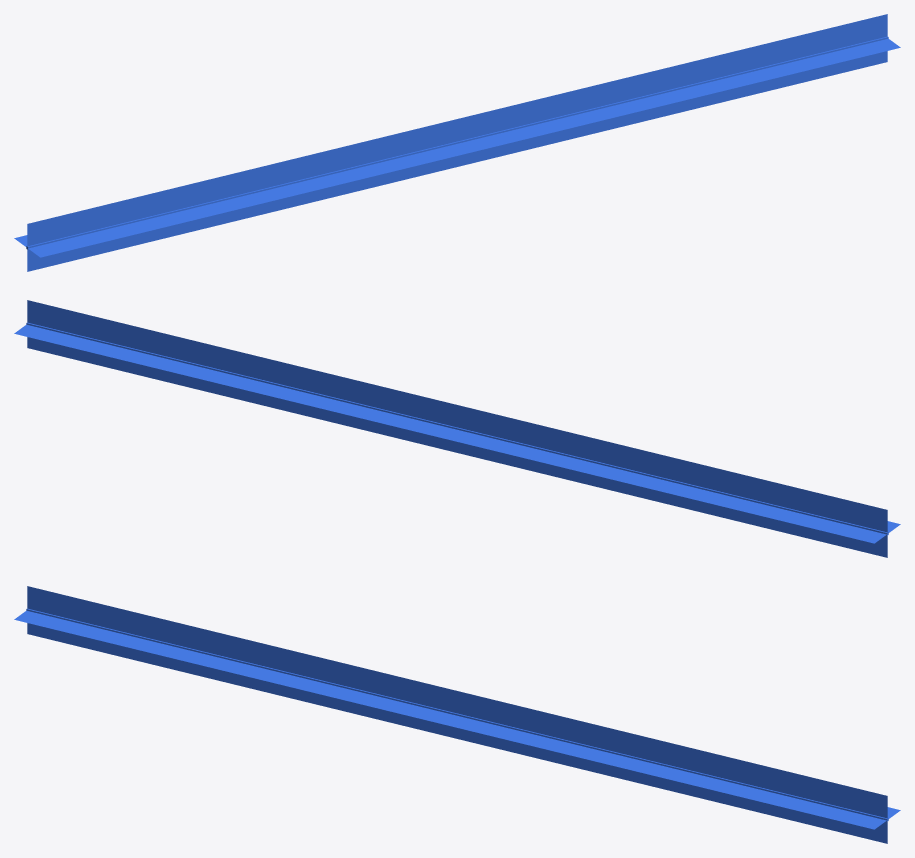
Rendered from lightning_object_with_glow.fbx.
3 renders of one model, top to bottom at view 1: azimuth 30°, elevation 25°; view 2: azimuth 150°, elevation 25°; view 3: azimuth 330°, elevation 25°, orthographic.
Parts seen in each view (by area): view 1: Mesh Object_ncl1_1, Mesh Object; view 2: Mesh Object_ncl1_1, Mesh Object; view 3: Mesh Object_ncl1_1, Mesh Object.
Part boxes in pixels (box(x1,y1,x2,y2)): Mesh Object_ncl1_1: box(14, 14, 900, 271); Mesh Object: box(26, 36, 888, 249); Mesh Object_ncl1_1: box(14, 300, 900, 557); Mesh Object: box(26, 322, 888, 535); Mesh Object_ncl1_1: box(14, 586, 900, 843); Mesh Object: box(26, 608, 888, 821).
Size of the model in its own units: 30 by 1.6 by 1.6.
